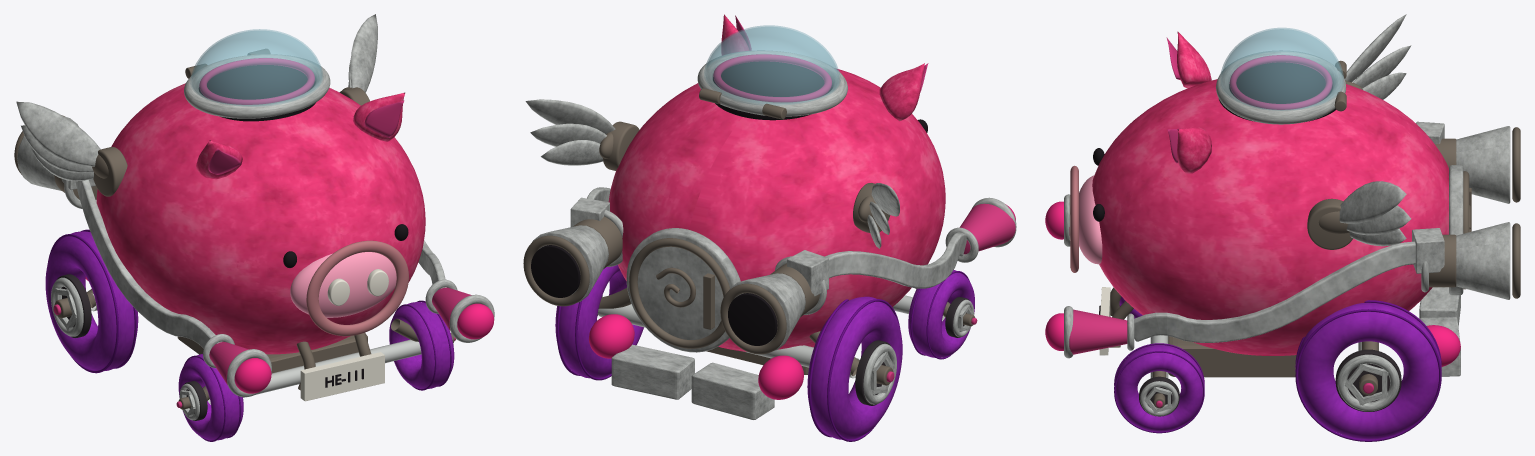
Rendered from edit_pig_orig.glb.
3 renders of one model, left to right at view 1: azimuth 30°, elevation 25°; view 2: azimuth 150°, elevation 25°; view 3: azimuth 270°, elevation 25°, orthographic. The views are drawn at different scales.
Parts seen in each view (by area): view 1: Pig_Body_Shell, Cockpit_Glass_Canopy, Wheel_Rear_L_Tire, Silencer_To_Light_Strut_L, Snout_Pad, Wheel_Front_R_Tire, Snout_Outer_Rim, Cockpit_Nickel_Rim, Cockpit_Recess, Wing_L_Feather_1, Wheel_Front_L_Tire, Front_Number_Plate (+24 smaller); view 2: Pig_Body_Shell, Cockpit_Glass_Canopy, Wheel_Rear_L_Tire, Rear_Hatch_Plate, Wheel_Rear_R_Tire, Silencer_To_Light_Strut_L, Rear_Bumper_R, Cockpit_Recess, Rear_Bumper_L, Wheel_Front_L_Tire, Cockpit_Nickel_Rim, Rear_Hatch_Ring (+31 smaller); view 3: Pig_Body_Shell, Wheel_Rear_R_Tire, Cockpit_Glass_Canopy, Silencer_To_Light_Strut_R, Wheel_Front_R_Tire, Rocket_R_Nozzle, Rocket_L_Nozzle, Cockpit_Nickel_Rim, Cockpit_Recess, Underbody_Cradle, Headlamp_R_Housing, Wing_R_Feather_1 (+27 smaller).
Boxes of the visible parts, left/top/right/bottom form: Pig_Body_Shell: left=96, top=83, right=425, bottom=354; Cockpit_Glass_Canopy: left=190, top=29, right=323, bottom=106; Wheel_Rear_L_Tire: left=45, top=231, right=138, bottom=370; Silencer_To_Light_Strut_L: left=75, top=179, right=222, bottom=348; Snout_Pad: left=290, top=252, right=396, bottom=317; Wheel_Front_R_Tire: left=389, top=302, right=454, bottom=388; Snout_Outer_Rim: left=306, top=240, right=408, bottom=336; Cockpit_Nickel_Rim: left=184, top=54, right=330, bottom=118; Cockpit_Recess: left=199, top=65, right=315, bottom=121; Wing_L_Feather_1: left=16, top=101, right=100, bottom=166; Wheel_Front_L_Tire: left=178, top=354, right=243, bottom=440; Front_Number_Plate: left=300, top=352, right=384, bottom=401; Pig_Body_Shell: left=608, top=69, right=945, bottom=351; Cockpit_Glass_Canopy: left=704, top=25, right=840, bottom=105; Wheel_Rear_L_Tire: left=807, top=296, right=902, bottom=439; Rear_Hatch_Plate: left=626, top=228, right=740, bottom=352; Wheel_Rear_R_Tire: left=555, top=265, right=643, bottom=378; Silencer_To_Light_Strut_L: left=825, top=232, right=966, bottom=288; Rear_Bumper_R: left=611, top=344, right=694, bottom=399; Cockpit_Recess: left=713, top=61, right=832, bottom=120; Rear_Bumper_L: left=691, top=362, right=774, bottom=419; Wheel_Front_L_Tire: left=908, top=270, right=974, bottom=357; Cockpit_Nickel_Rim: left=697, top=50, right=847, bottom=116; Rear_Hatch_Ring: left=629, top=238, right=729, bottom=348; Pig_Body_Shell: left=1092, top=79, right=1448, bottom=355; Wheel_Rear_R_Tire: left=1295, top=302, right=1441, bottom=439; Cockpit_Glass_Canopy: left=1219, top=27, right=1344, bottom=110; Silencer_To_Light_Strut_R: left=1127, top=241, right=1415, bottom=342; Wheel_Front_R_Tire: left=1114, top=345, right=1204, bottom=431; Rocket_R_Nozzle: left=1456, top=222, right=1510, bottom=299; Rocket_L_Nozzle: left=1456, top=126, right=1510, bottom=203; Cockpit_Nickel_Rim: left=1216, top=50, right=1346, bottom=124; Cockpit_Recess: left=1219, top=62, right=1336, bottom=121; Underbody_Cradle: left=1168, top=336, right=1296, bottom=377; Headlamp_R_Housing: left=1069, top=309, right=1127, bottom=354; Wing_R_Feather_1: left=1339, top=181, right=1406, bottom=223.
Size of the model in its own units: 2.29 by 2.02 by 2.55.
121 materials, 54 textured.
